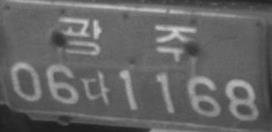0: (8, 60, 43, 102)
1: (149, 72, 178, 114), (114, 68, 142, 111)
6: (186, 74, 221, 118), (44, 63, 80, 105)
8: (224, 77, 260, 122)
광주_D: (58, 14, 197, 62)
다: (81, 68, 112, 107)
